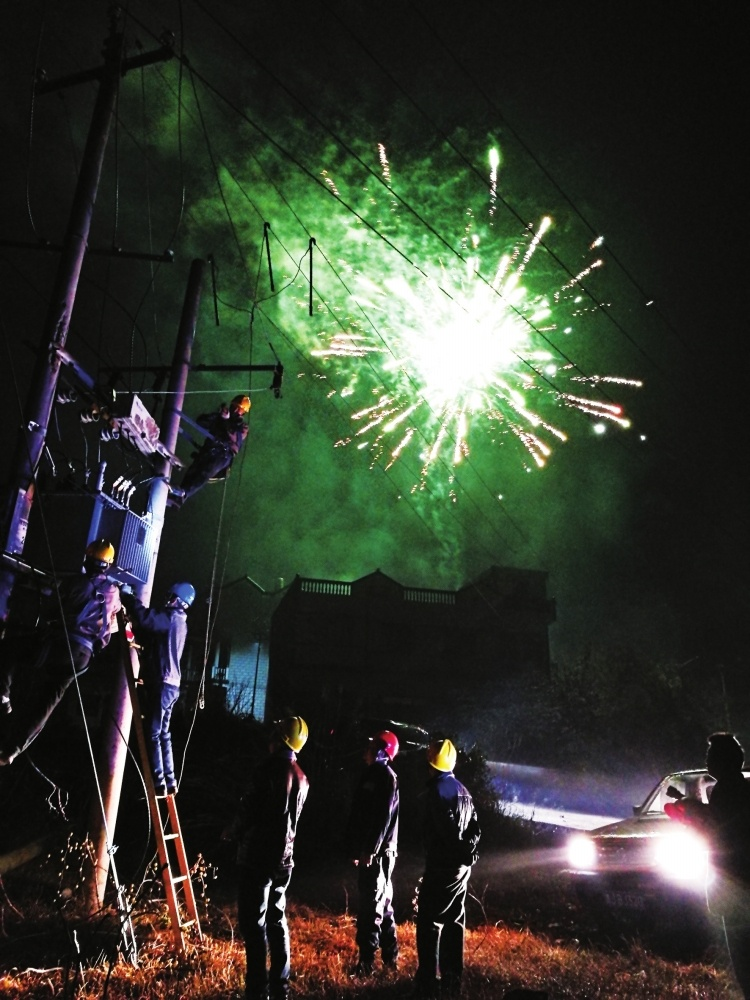blue: (162, 581, 196, 612)
red: (362, 727, 399, 767)
yellow: (260, 712, 306, 758), (424, 736, 456, 777), (83, 537, 116, 571), (229, 392, 253, 417)
